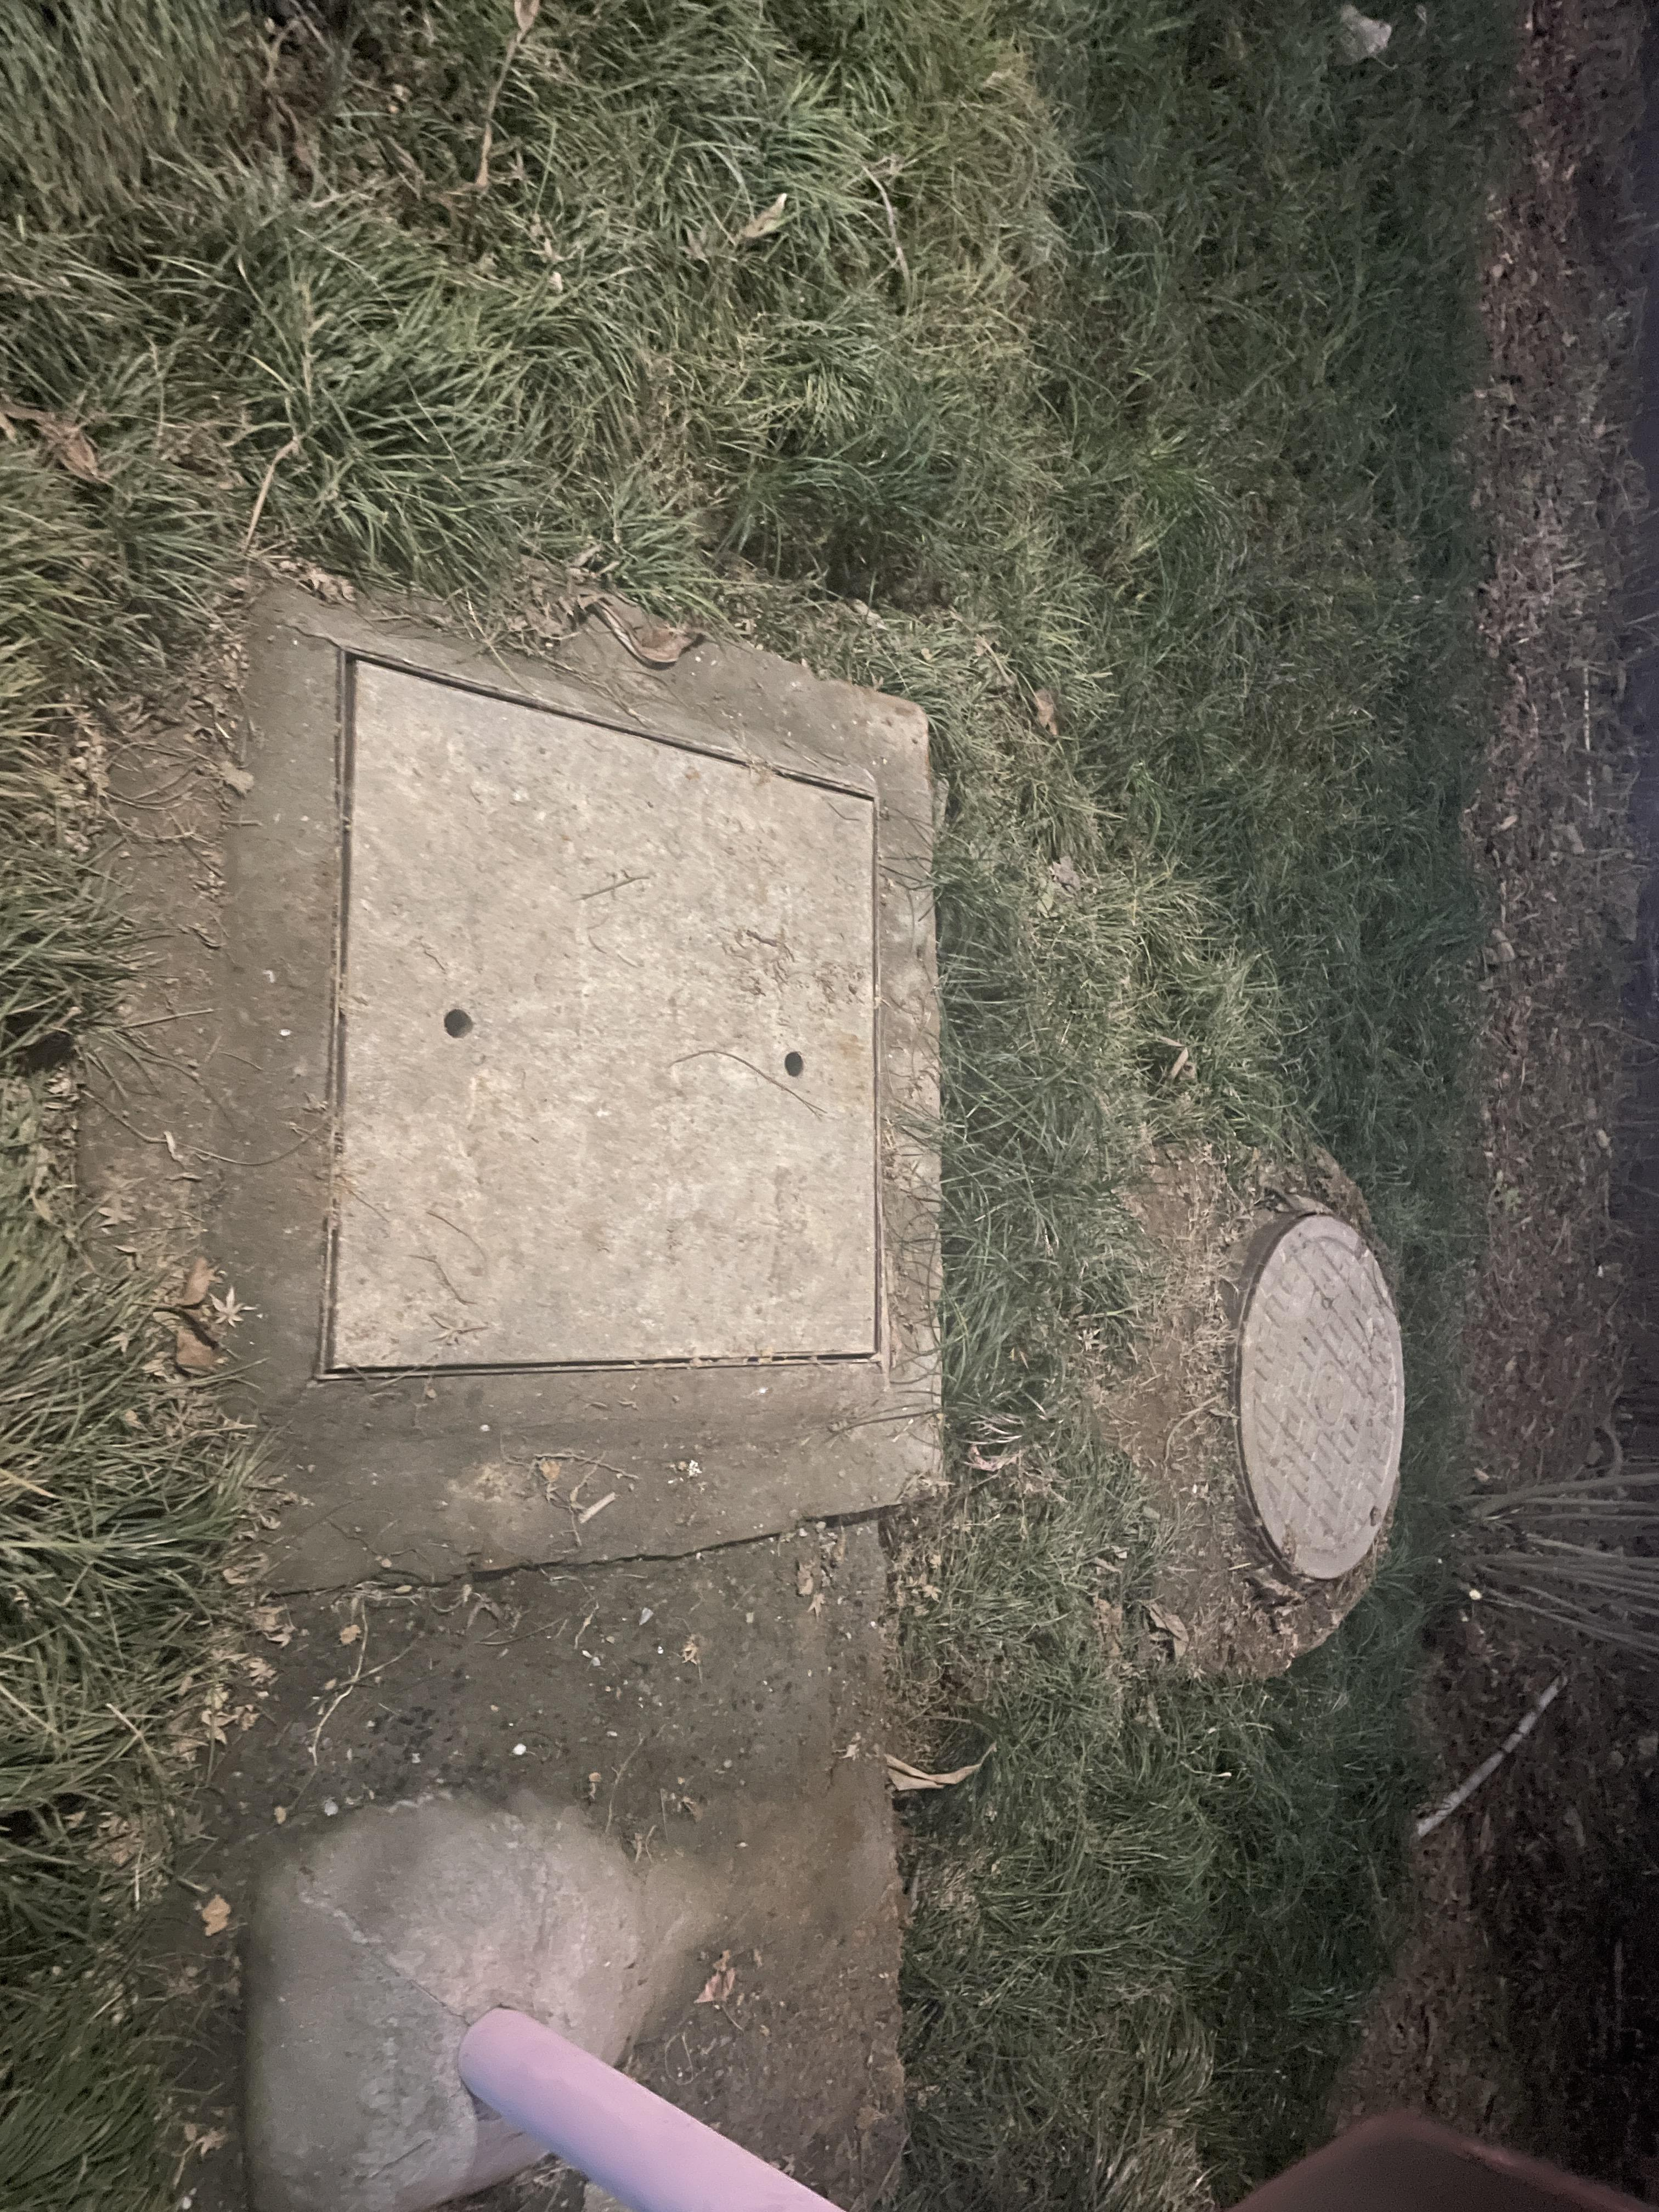wellcover: (211, 502, 939, 1562), (1197, 1143, 1422, 1642)
